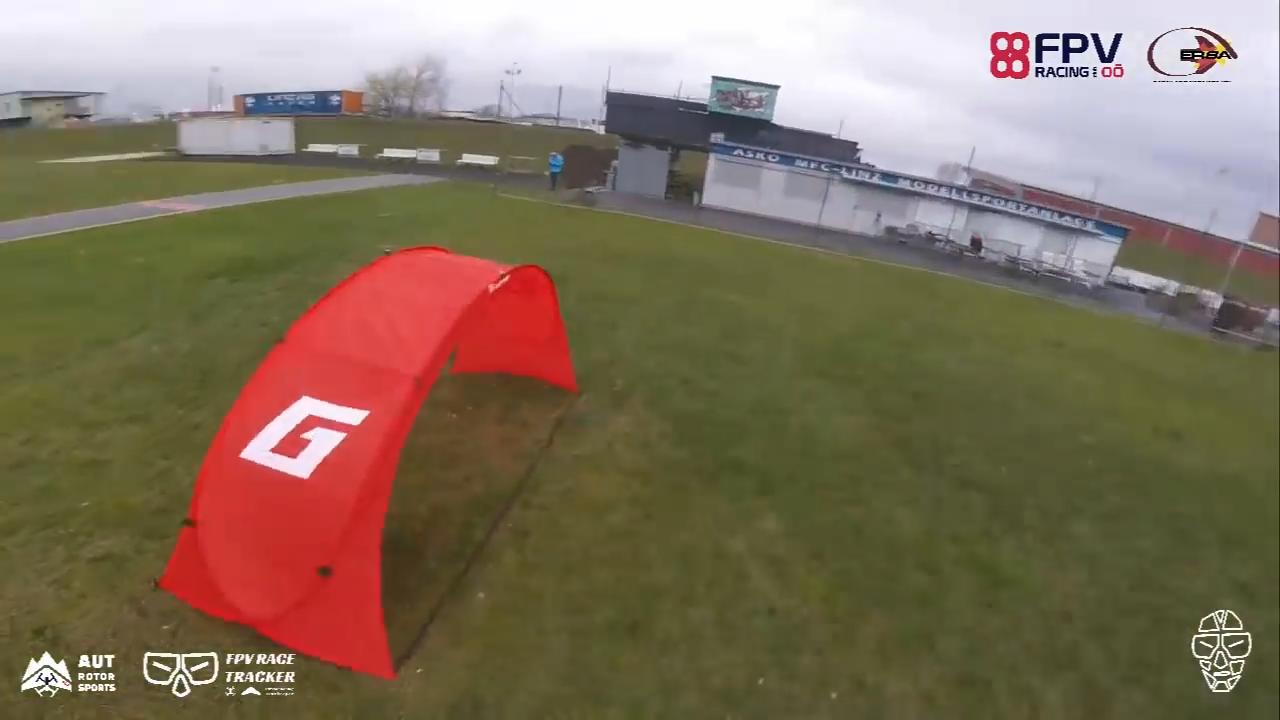gate: (153, 240, 580, 679)
